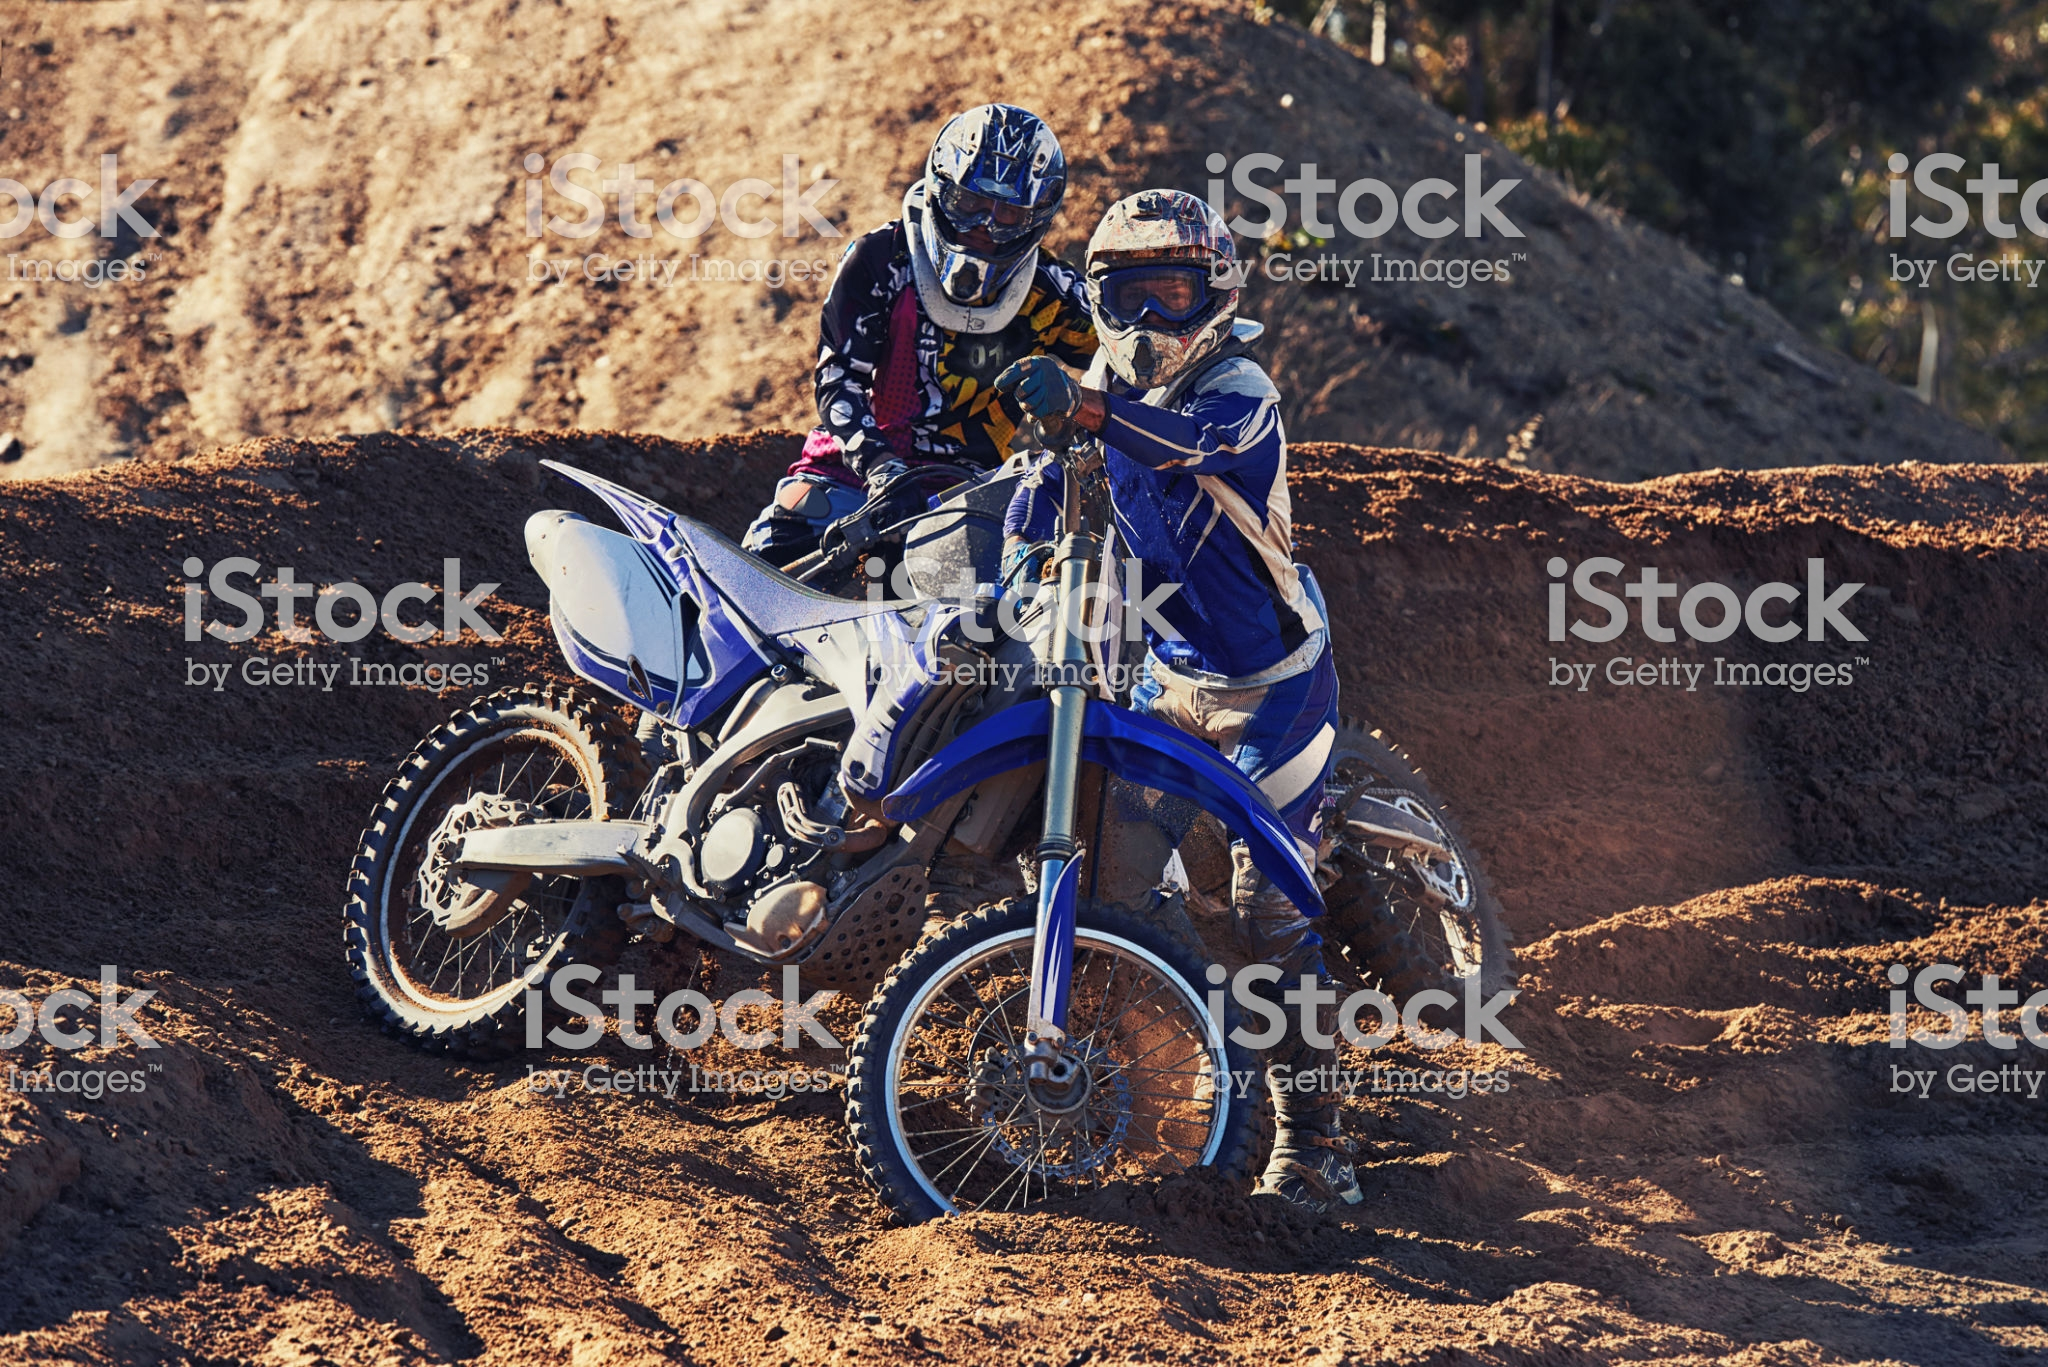helmet: (1080, 189, 1247, 395), (916, 88, 1086, 291)
